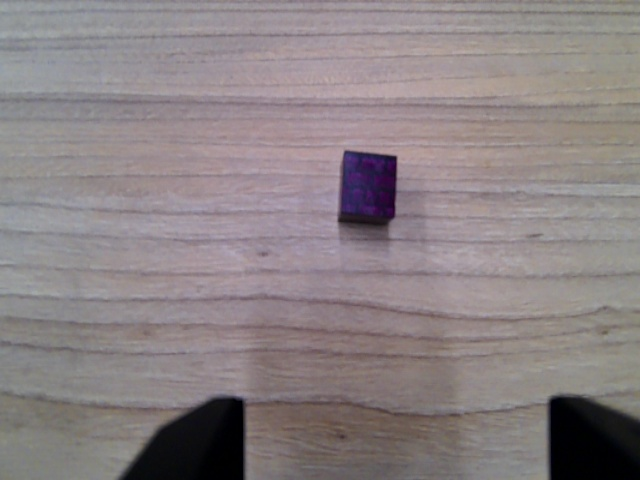brick: (337, 149, 400, 226)
